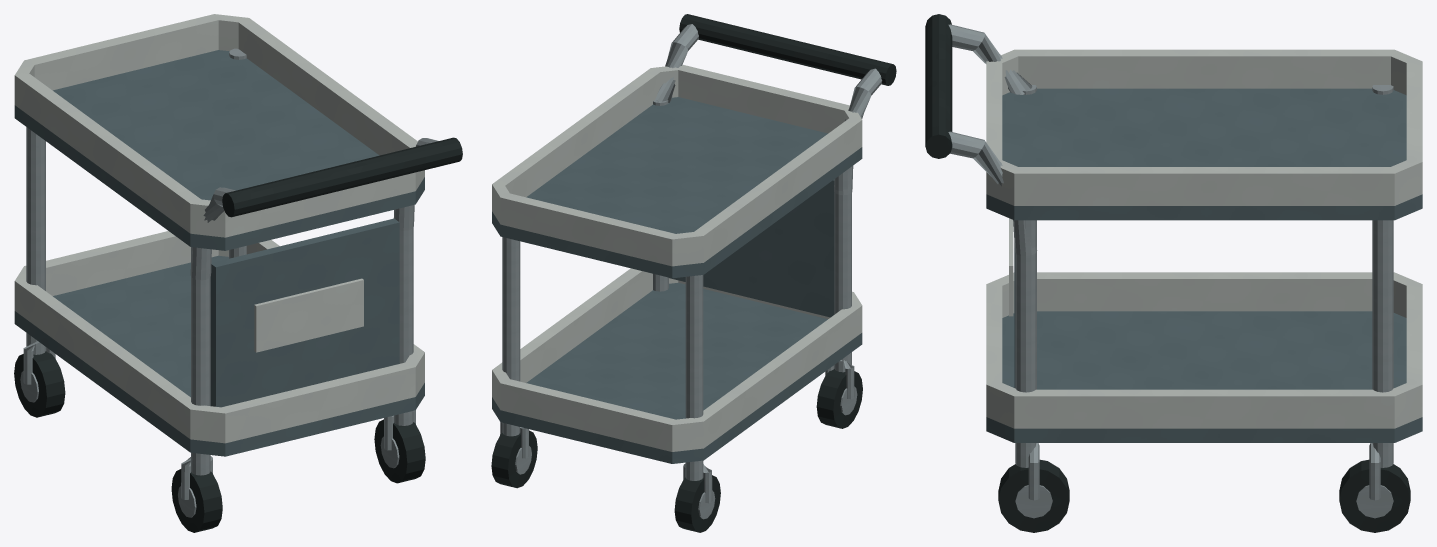
Rendered from AST-HSK-005.glb.
3 renders of one model, left to right at view 1: azimuth 30°, elevation 25°; view 2: azimuth 150°, elevation 25°; view 3: azimuth 270°, elevation 25°, orthographic. The views are drawn at different scales.
Visible parts, largest first — view 1: AST-HSK-005_staff_bluegrey_paint, AST-HSK-005_staff_white_paint, AST-HSK-005_staff_zinc, AST-HSK-005_staff_rubber, AST-HSK-005_staff_rubber_wheel.002, AST-HSK-005_staff_rubber_wheel, AST-HSK-005_staff_rubber_wheel.001; view 2: AST-HSK-005_staff_bluegrey_paint, AST-HSK-005_staff_white_paint, AST-HSK-005_staff_zinc, AST-HSK-005_staff_rubber, AST-HSK-005_staff_rubber_wheel, AST-HSK-005_staff_rubber_wheel.003, AST-HSK-005_staff_rubber_wheel.002; view 3: AST-HSK-005_staff_bluegrey_paint, AST-HSK-005_staff_white_paint, AST-HSK-005_staff_zinc, AST-HSK-005_staff_rubber, AST-HSK-005_staff_rubber_wheel.003, AST-HSK-005_staff_rubber_wheel.001, AST-HSK-005_staff_zinc_wheel.001, AST-HSK-005_staff_zinc_wheel.003.
Part boxes in pixels (left/top/right/bottom): AST-HSK-005_staff_bluegrey_paint: left=14, top=50, right=424, bottom=456; AST-HSK-005_staff_white_paint: left=14, top=14, right=424, bottom=443; AST-HSK-005_staff_zinc: left=23, top=48, right=438, bottom=499; AST-HSK-005_staff_rubber: left=222, top=137, right=462, bottom=217; AST-HSK-005_staff_rubber_wheel.002: left=14, top=351, right=65, bottom=417; AST-HSK-005_staff_rubber_wheel: left=171, top=469, right=222, bottom=532; AST-HSK-005_staff_rubber_wheel.001: left=374, top=419, right=425, bottom=483; AST-HSK-005_staff_bluegrey_paint: left=492, top=97, right=862, bottom=463; AST-HSK-005_staff_white_paint: left=492, top=64, right=862, bottom=451; AST-HSK-005_staff_zinc: left=500, top=24, right=882, bottom=503; AST-HSK-005_staff_rubber: left=679, top=14, right=896, bottom=85; AST-HSK-005_staff_rubber_wheel: left=816, top=369, right=862, bottom=428; AST-HSK-005_staff_rubber_wheel.003: left=491, top=430, right=537, bottom=488; AST-HSK-005_staff_rubber_wheel.002: left=674, top=475, right=720, bottom=532; AST-HSK-005_staff_bluegrey_paint: left=986, top=88, right=1422, bottom=442; AST-HSK-005_staff_white_paint: left=986, top=49, right=1422, bottom=428; AST-HSK-005_staff_zinc: left=948, top=24, right=1393, bottom=500; AST-HSK-005_staff_rubber: left=925, top=14, right=952, bottom=158; AST-HSK-005_staff_rubber_wheel.003: left=1339, top=459, right=1410, bottom=532; AST-HSK-005_staff_rubber_wheel.001: left=998, top=459, right=1069, bottom=532; AST-HSK-005_staff_zinc_wheel.001: left=1015, top=485, right=1052, bottom=518; AST-HSK-005_staff_zinc_wheel.003: left=1356, top=485, right=1393, bottom=518.
Size of the model in its own units: 0.74 by 1.11 by 1.25.
Materials: 4 (4 with a texture image).
